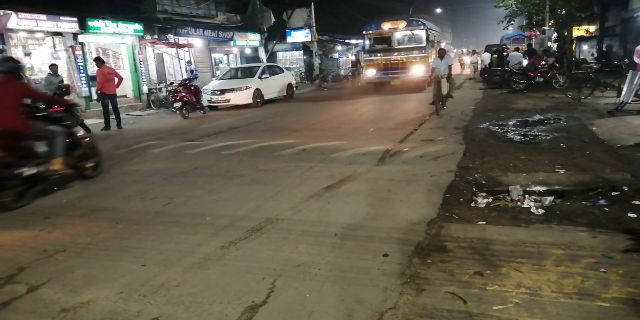Bus: (361, 16, 435, 92)
Car: (199, 57, 298, 112)
Cycle: (429, 45, 454, 120)
Motorbike: (1, 74, 103, 206), (167, 71, 211, 124)
